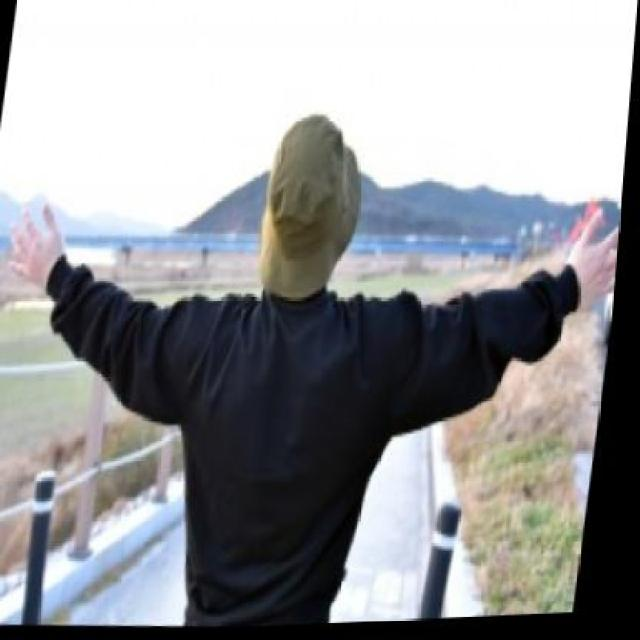hat: (254, 105, 377, 307)
